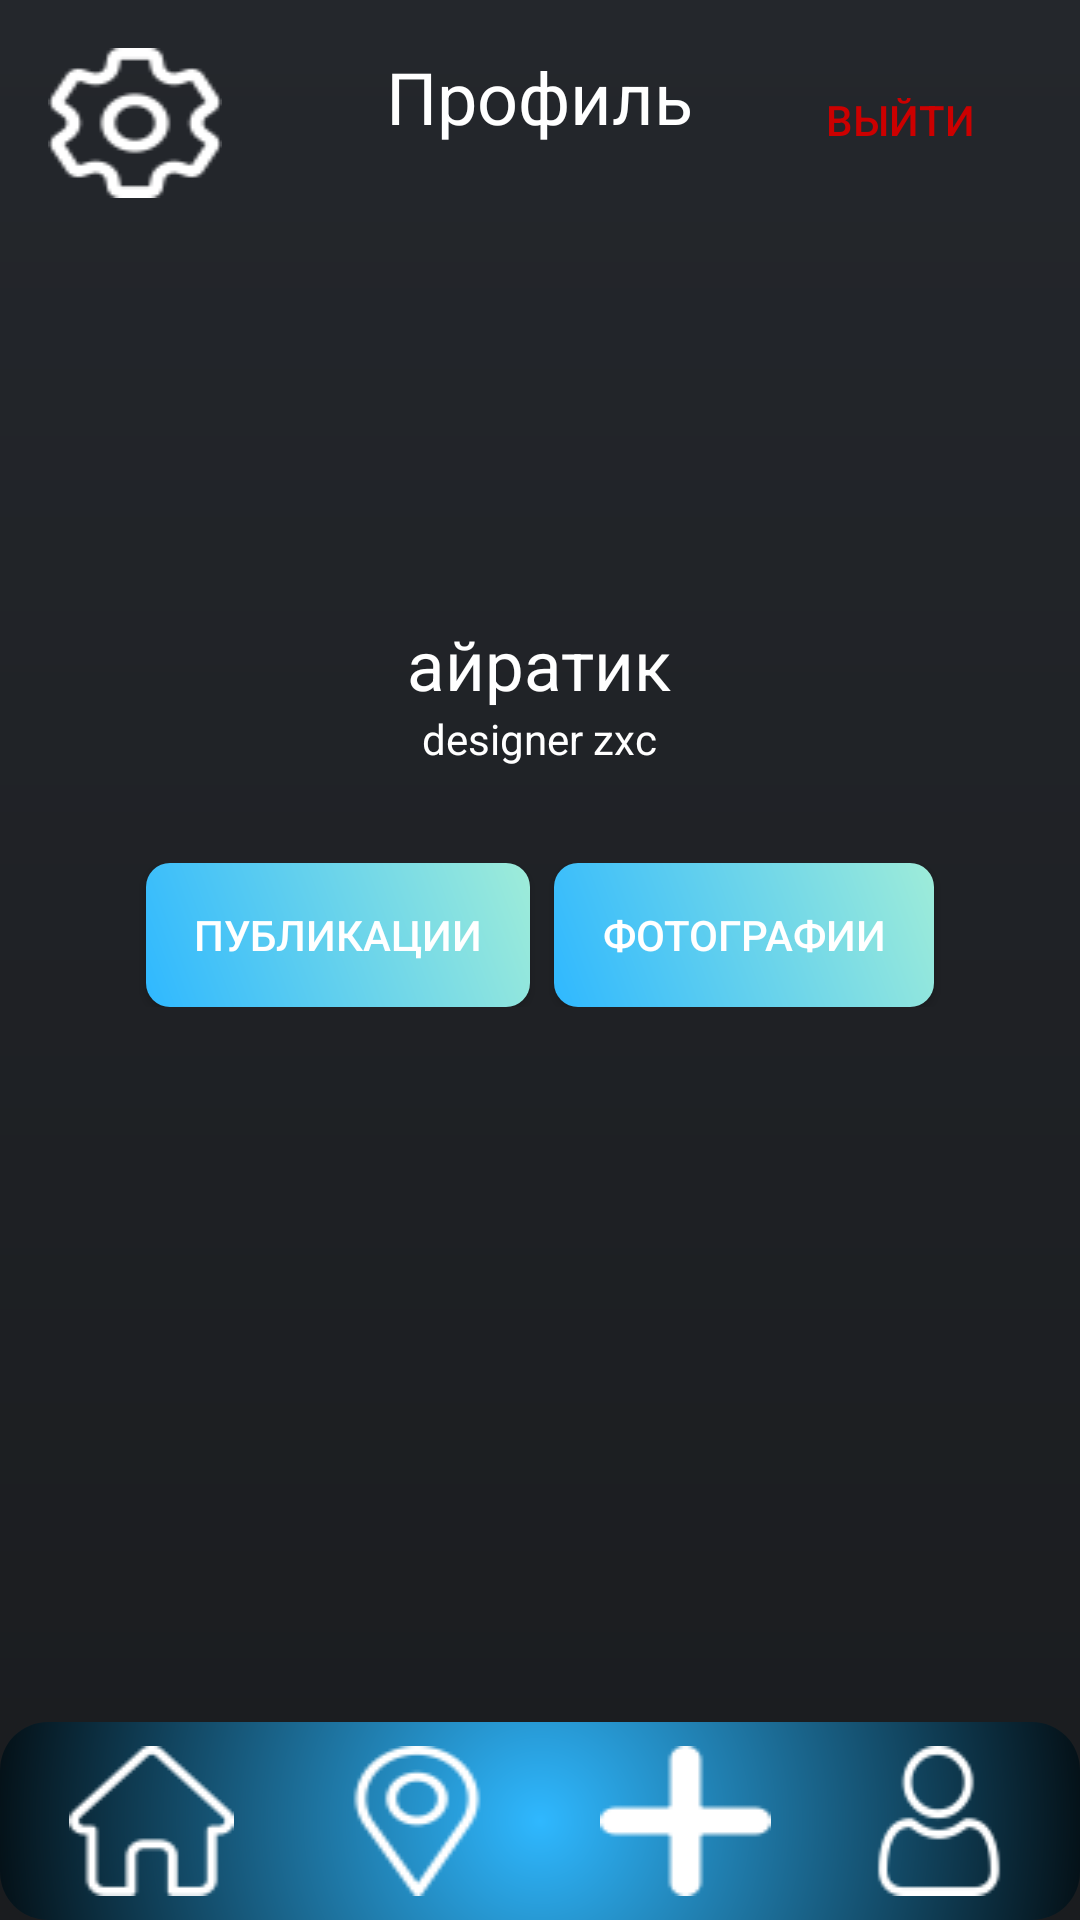

Where to tap for icons on this 1080 × 1920 app screen, as (x,y):
Add: (685,1821)
Home: (151,1821)
Profile: (939,1821)
Settings: (135,123)
